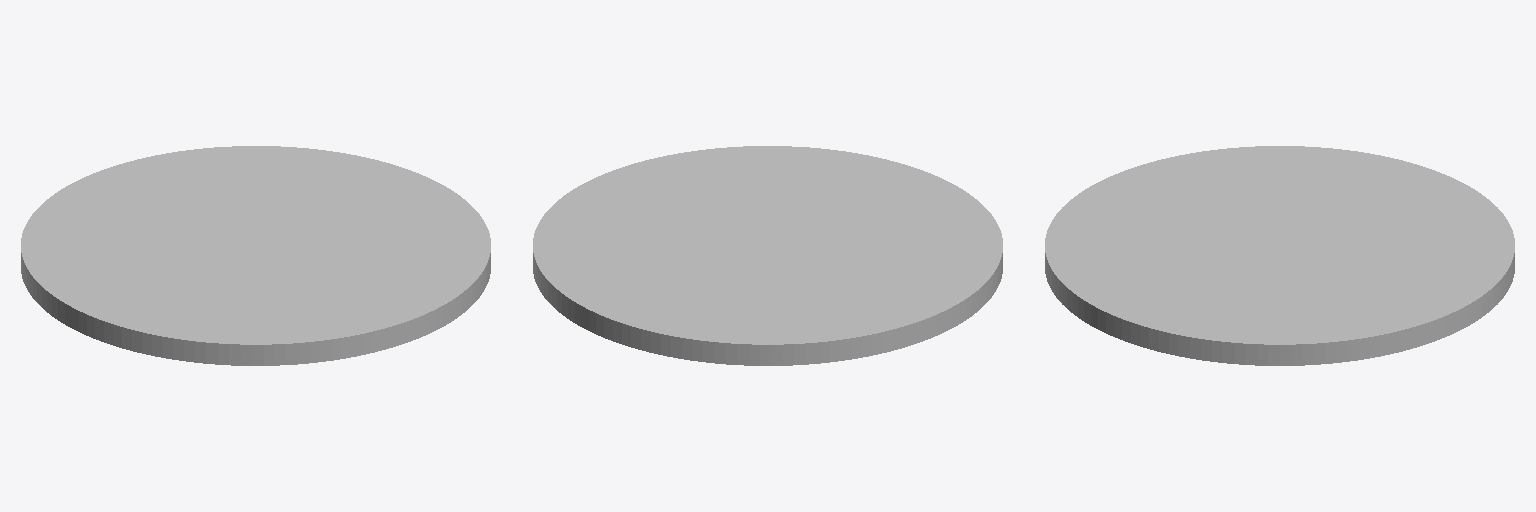
Rendered from coin.obj.
3 views of the same model, side by side, from view 1: azimuth 30°, elevation 25°; view 2: azimuth 150°, elevation 25°; view 3: azimuth 270°, elevation 25° (orthographic).
Parts seen in each view (by area): view 1: Cylinder_Cylinder.001; view 2: Cylinder_Cylinder.001; view 3: Cylinder_Cylinder.001.
Boxes of the visible parts, box(x1,y1,x2,y2) form: Cylinder_Cylinder.001: box(21, 146, 490, 365); Cylinder_Cylinder.001: box(533, 146, 1002, 365); Cylinder_Cylinder.001: box(1045, 146, 1514, 365).
Size of the model in its own units: 2 by 0.1 by 2.